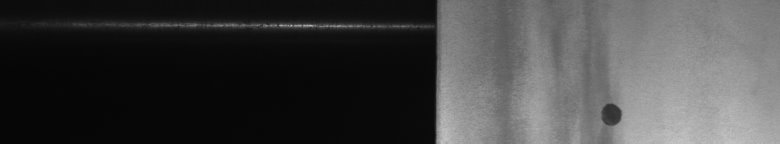fi: (554, 40, 628, 136)
